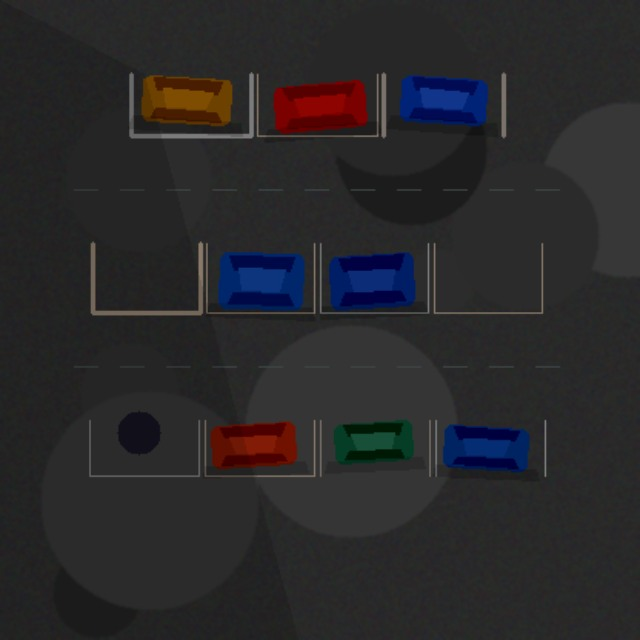space-empty: (92, 243, 200, 312), (434, 243, 542, 312), (89, 420, 198, 475)
space-occupied: (206, 243, 314, 312), (320, 243, 428, 312), (131, 74, 251, 135), (257, 74, 377, 135), (383, 74, 503, 135), (435, 420, 545, 475), (205, 420, 314, 475), (320, 420, 429, 475)
